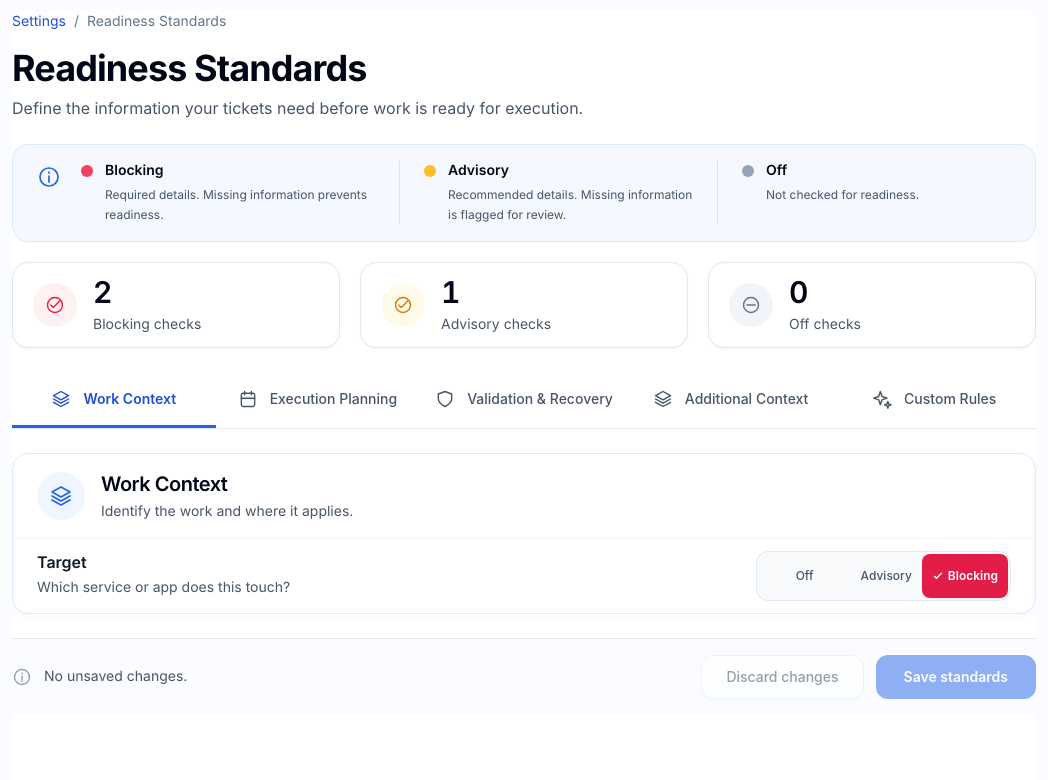
it: ChecklistSettingsPage › deleting a rule removes it from the list
Click the tab "Custom Rules".
click(934, 400)  # box [832, 372, 1036, 428]
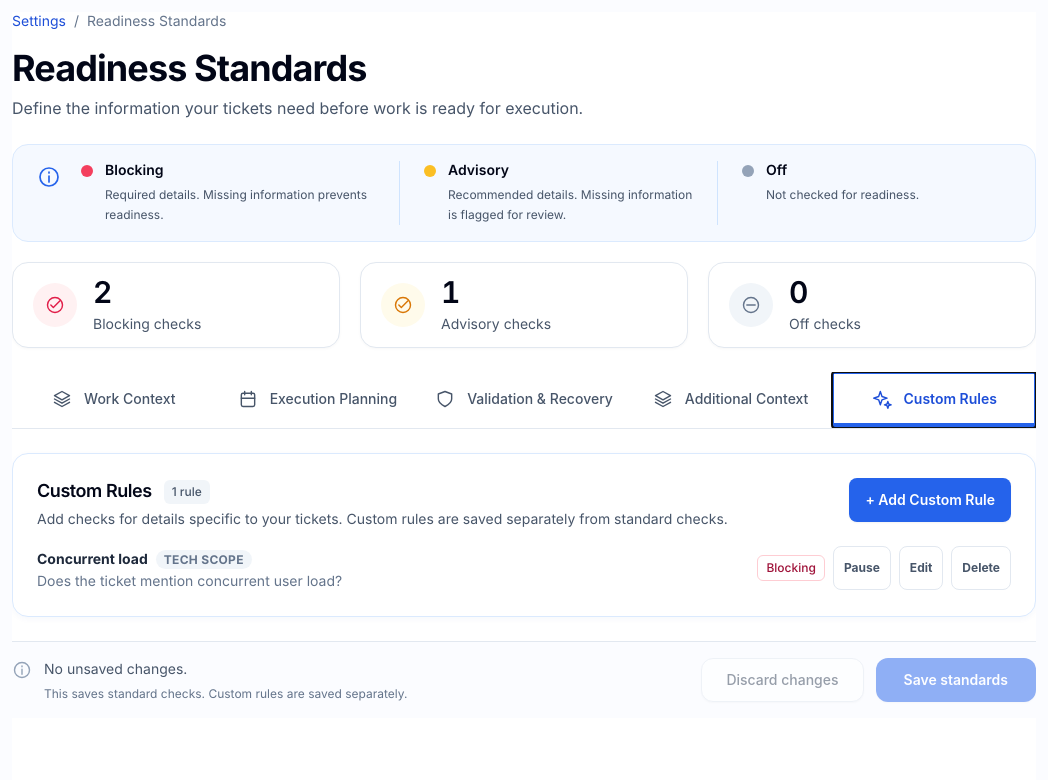
Now the text "Concurrent load" is shown, box [37, 551, 148, 568]
Click the button "Delete".
click(981, 568)  # box [951, 546, 1011, 590]
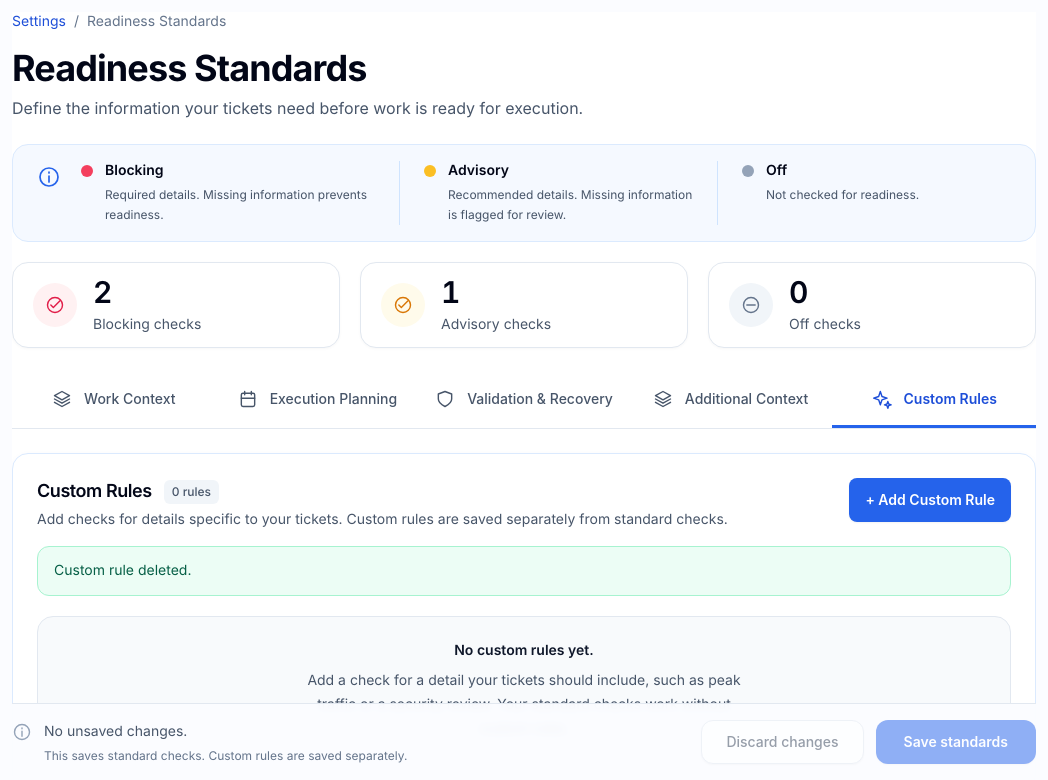
Now the text "Concurrent load" is gone
